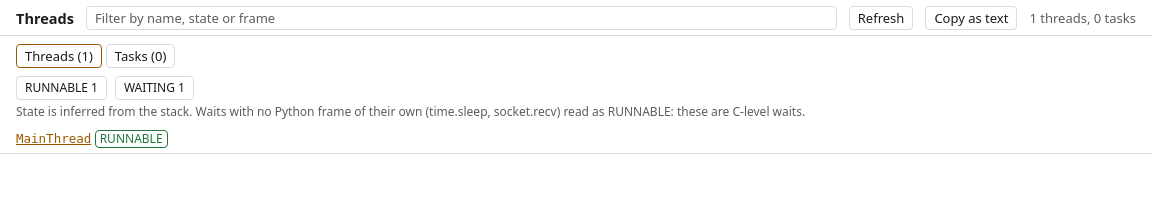
Test: highlights application frames in an expanded stack
The image size is (1152, 207).
Click the button "MainThread".
click(54, 139)  # box [16, 129, 91, 149]
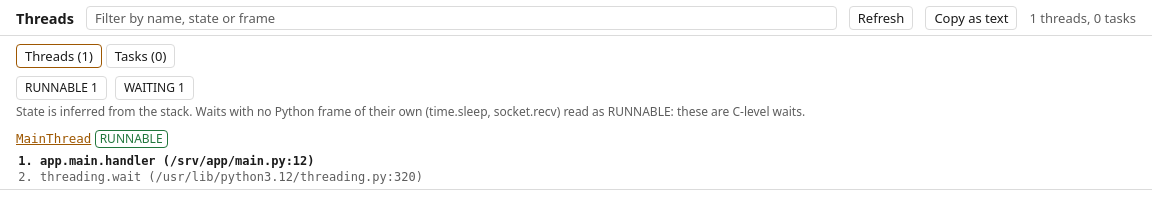
Expected: the list item "app.main.handler (/srv/app/main.py:12)" is shown, [40, 154, 314, 168]
